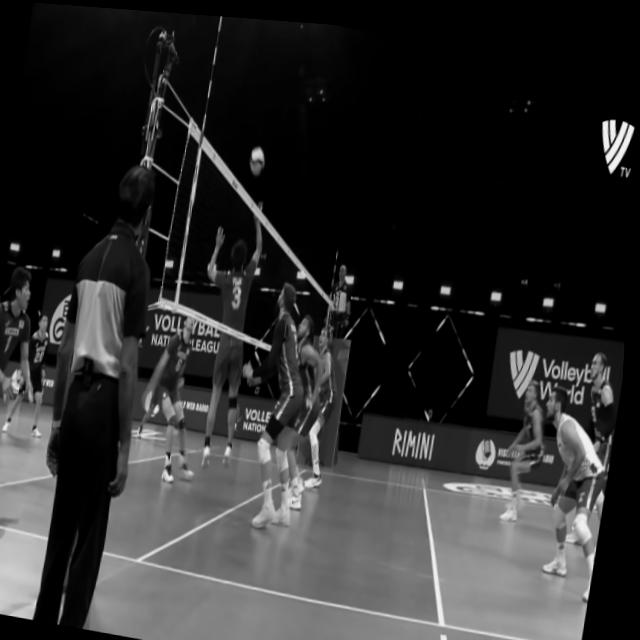player: (182, 181, 277, 465), (228, 268, 330, 531), (521, 371, 625, 594), (135, 303, 222, 487), (275, 302, 339, 509), (0, 252, 56, 460), (501, 372, 559, 526), (299, 315, 348, 486), (8, 302, 64, 439), (576, 336, 628, 478)
